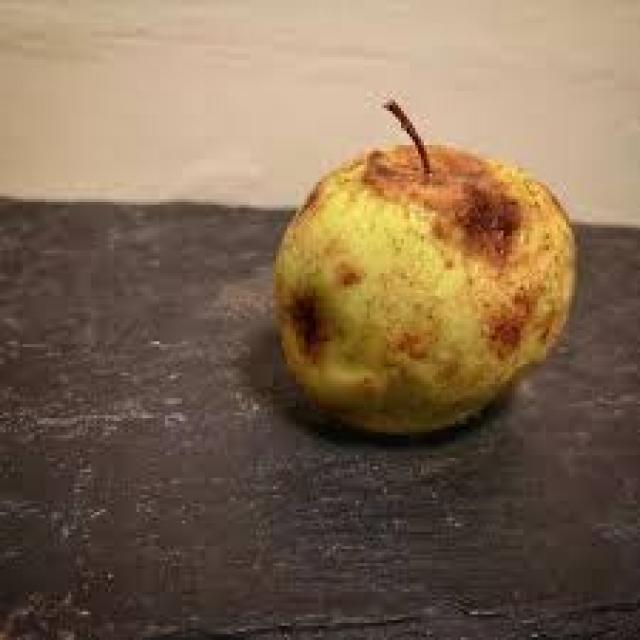organic waste: (273, 102, 575, 432)
